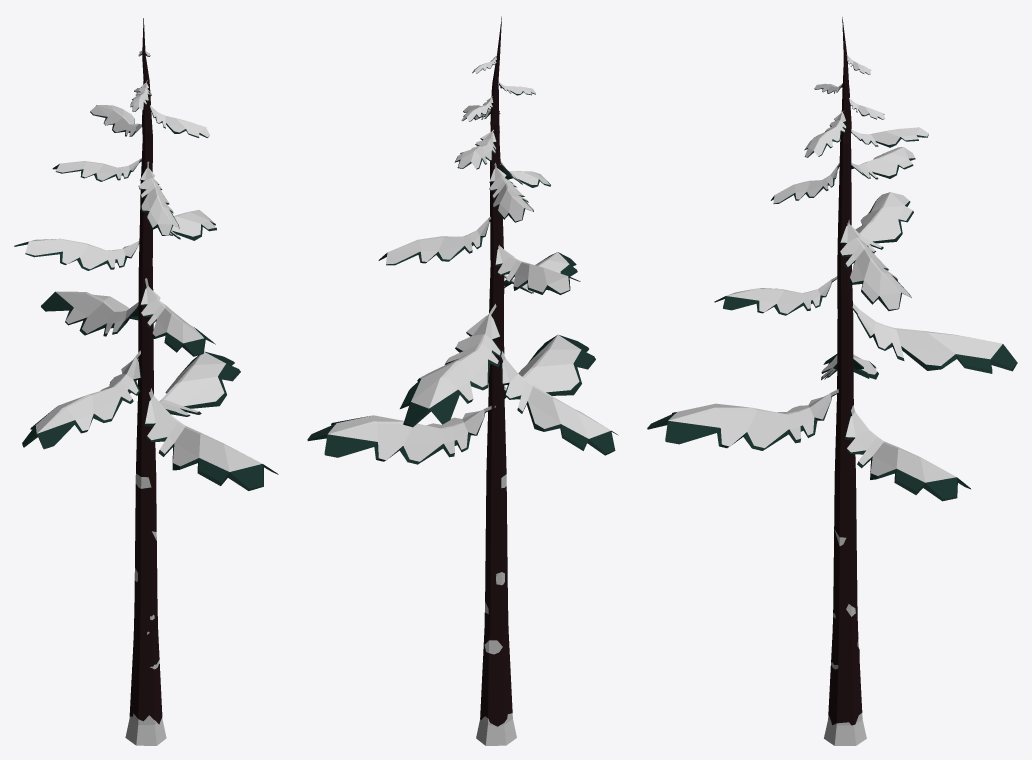
The model's file is pine_with_leavesless.fbx.
3 views of the same model, side by side, from view 1: azimuth 30°, elevation 25°; view 2: azimuth 150°, elevation 25°; view 3: azimuth 270°, elevation 25° (orthographic).
Parts seen in each view (by area): view 1: tree with less leaves; view 2: tree with less leaves; view 3: tree with less leaves.
Part boxes in pixels (x1,y1,x2,y2): tree with less leaves: (14, 18, 278, 745); tree with less leaves: (307, 16, 618, 745); tree with less leaves: (647, 17, 1017, 745).
Bounding box in the file's own units: 1652 × 4429 × 2058.
